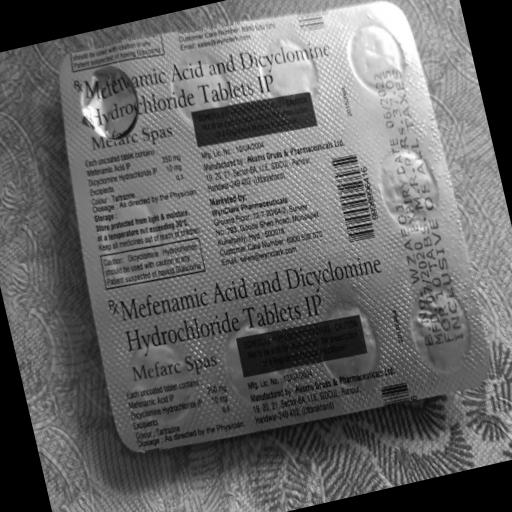mefarc spas: (42, 0, 512, 494)
